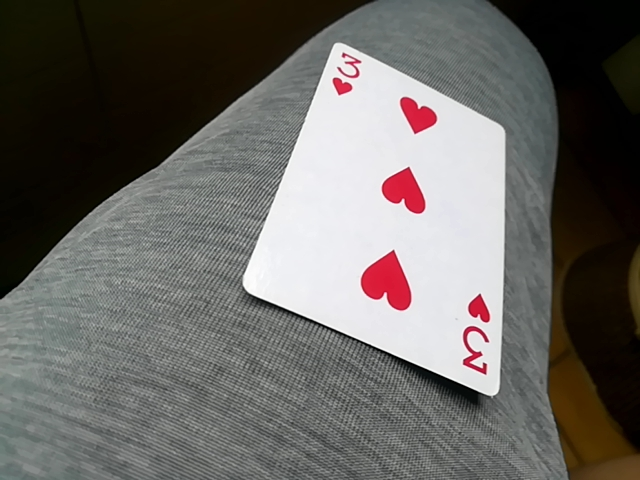hx 3: (240, 42, 512, 396)
